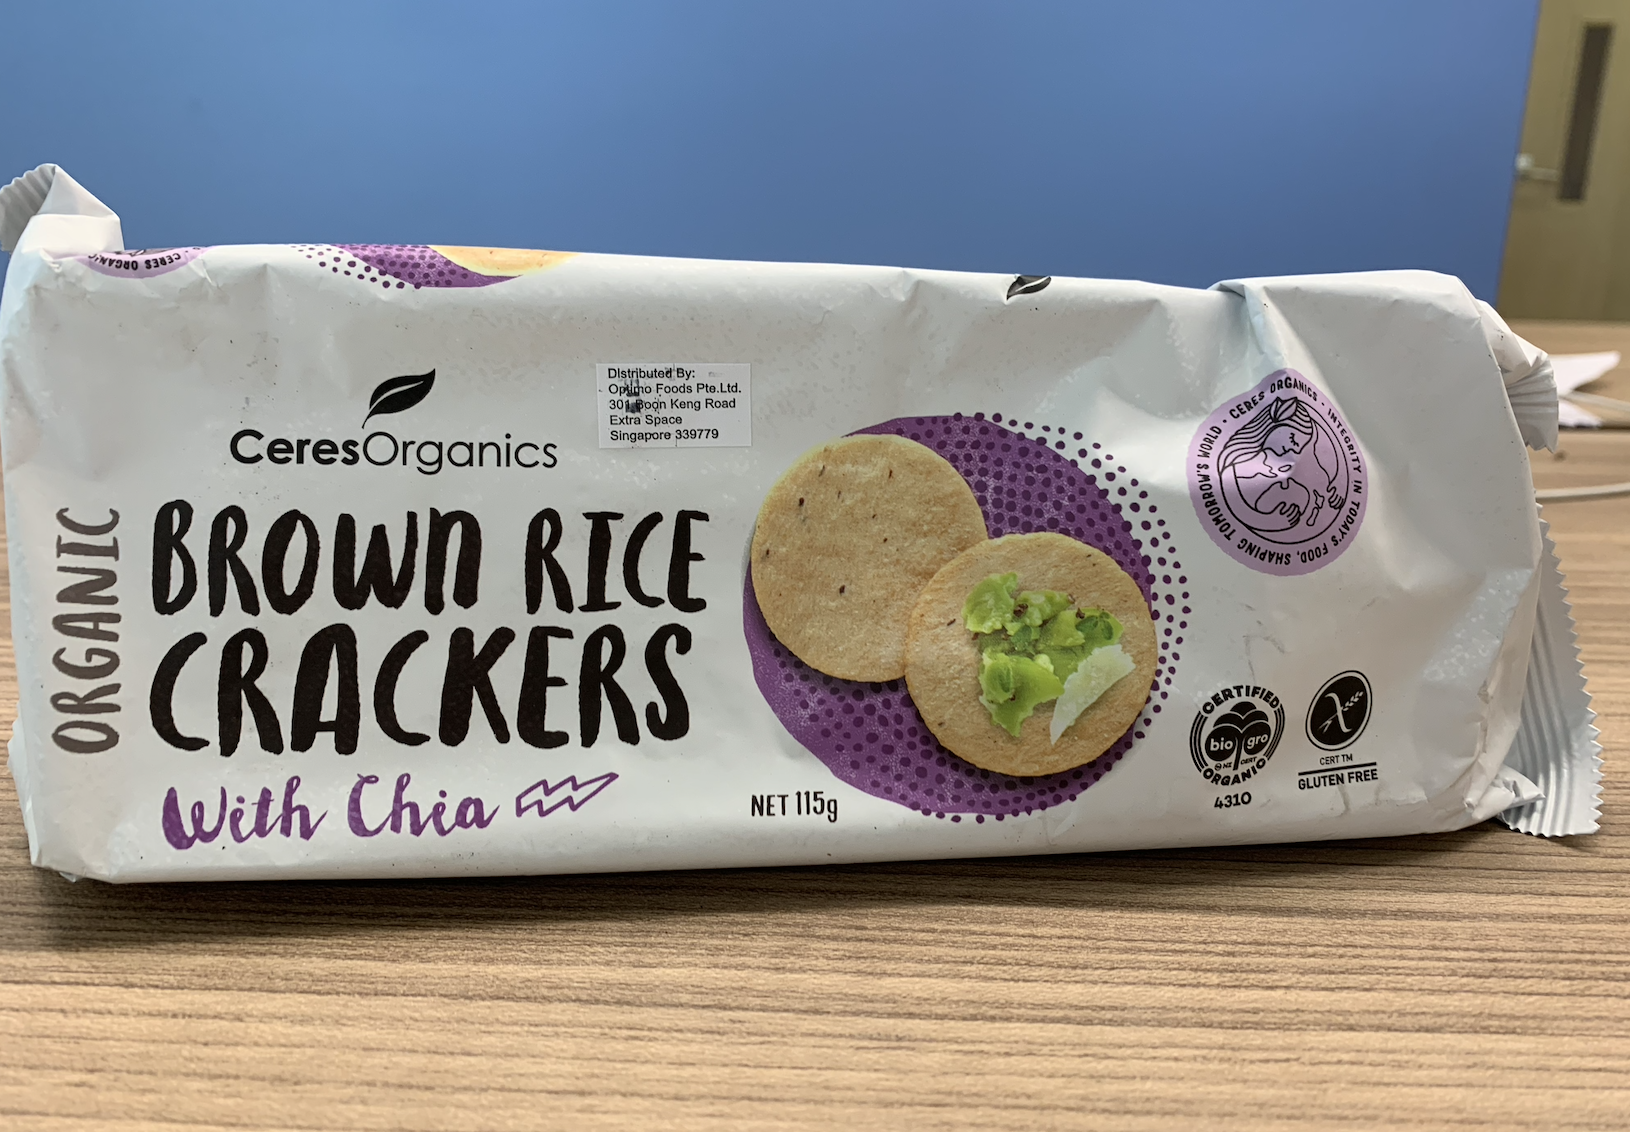crackers_100g-199g: (48, 303, 1440, 840)
